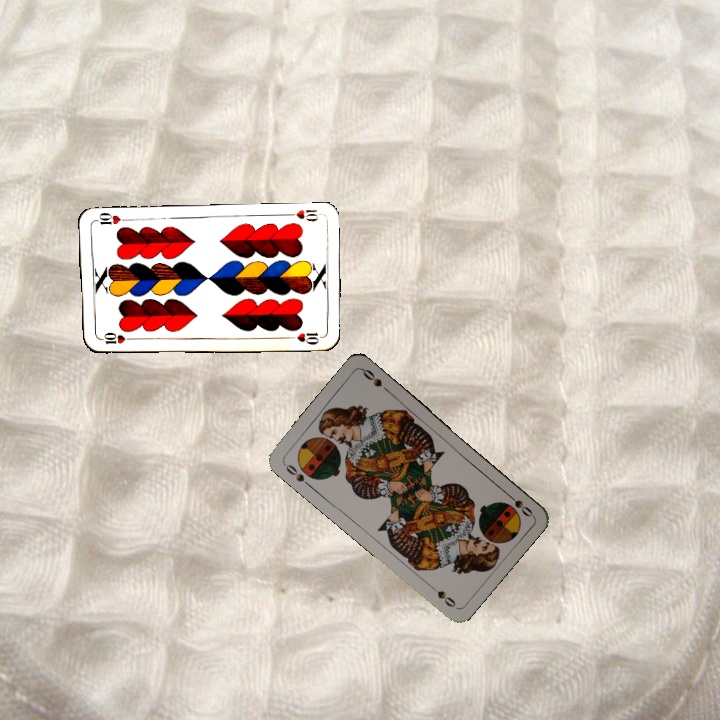H10: (282, 206, 322, 224), (96, 330, 136, 346)
SO: (501, 488, 535, 520), (279, 459, 313, 489)
